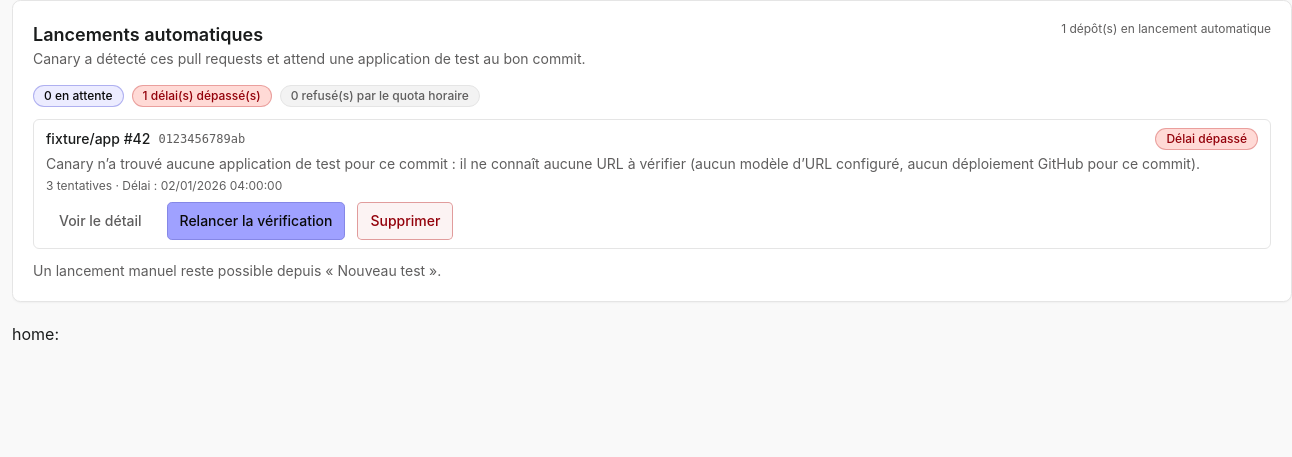
Test: AutomaticRuns › deletes a failure once the confirmation is answered, and reloads without it
Step 1. Click the button "Supprimer" → click(405, 221), box [357, 202, 453, 240]
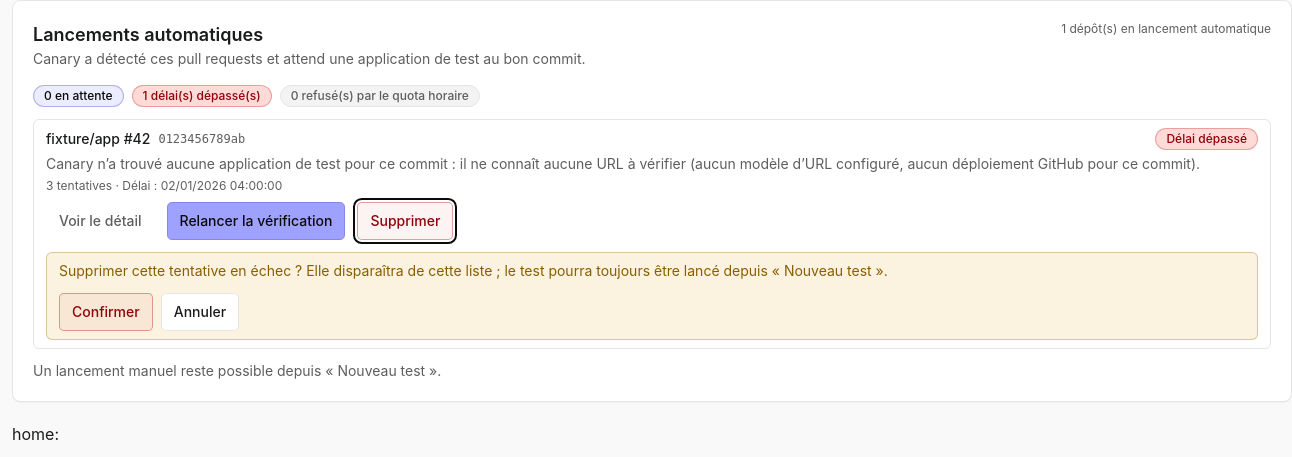
Step 2. Click the button "Confirmer" → click(106, 312), box [59, 293, 153, 331]
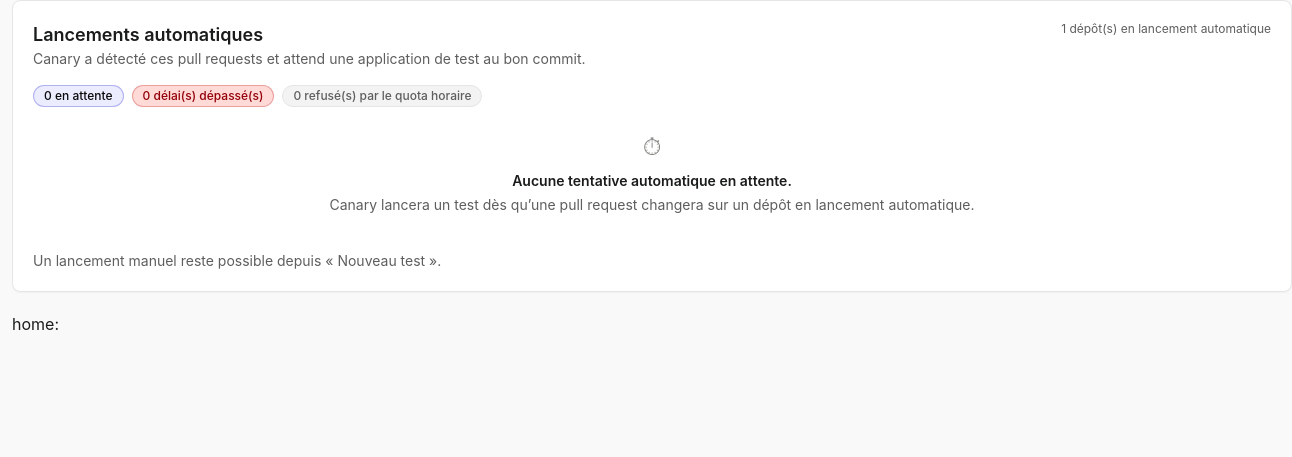
Expected: the text "0 délai(s) dépassé(s)" is shown, [132, 85, 274, 107]
